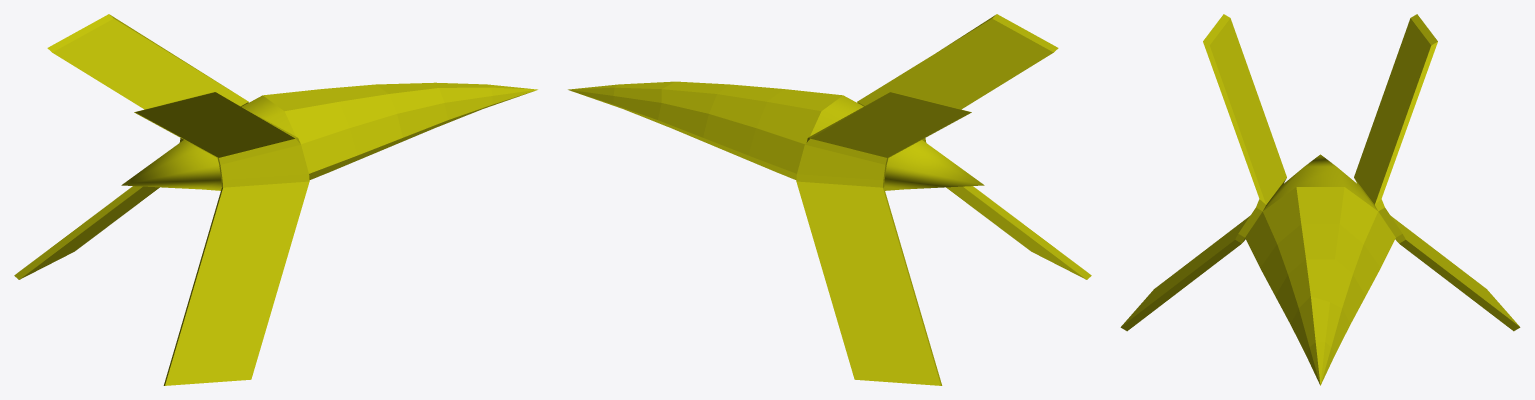
Rendered from 圓盤艦載機.fbx.
3 views of the same model, side by side, from view 1: azimuth 30°, elevation 25°; view 2: azimuth 150°, elevation 25°; view 3: azimuth 270°, elevation 25° (orthographic). The views are drawn at different scales.
Visible parts, largest first — view 1: Cone001; view 2: Cone001; view 3: Cone001.
Part boxes in pixels (left/top/right/bottom): Cone001: left=14, top=14, right=537, bottom=385; Cone001: left=568, top=14, right=1091, bottom=385; Cone001: left=1120, top=14, right=1520, bottom=385.
Size of the model in its own units: 889 by 497 by 621.
1 material, 1 textured.
